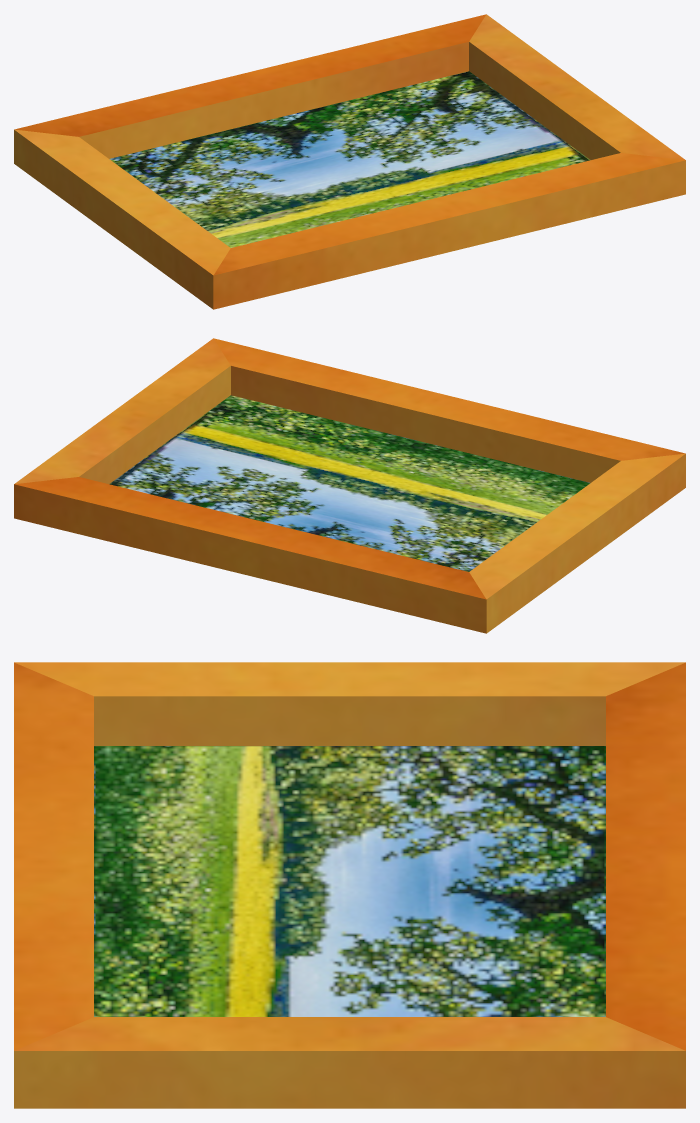
The model's file is frame.FBX.
3 views of the same model, one above another, from view 1: azimuth 30°, elevation 25°; view 2: azimuth 150°, elevation 25°; view 3: azimuth 270°, elevation 25° (orthographic). The views are drawn at different scales.
Visible parts, largest first — view 1: Box001, Object001; view 2: Box001, Object001; view 3: Box001, Object001.
Boxes of the visible parts, x1,y1,x2,y2 form: Box001: [14, 14, 685, 309]; Object001: [109, 71, 590, 247]; Box001: [14, 338, 685, 633]; Object001: [109, 395, 590, 571]; Box001: [14, 662, 685, 1108]; Object001: [94, 746, 605, 1016].
Size of the model in its own units: 73.08 by 5.05 by 53.42.
Materials: 3 (2 with a texture image).
